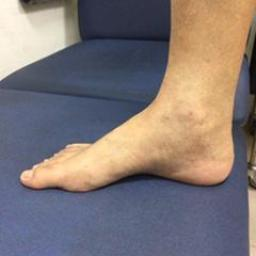Medial View -Right Foot-: (15, 67, 240, 202)
